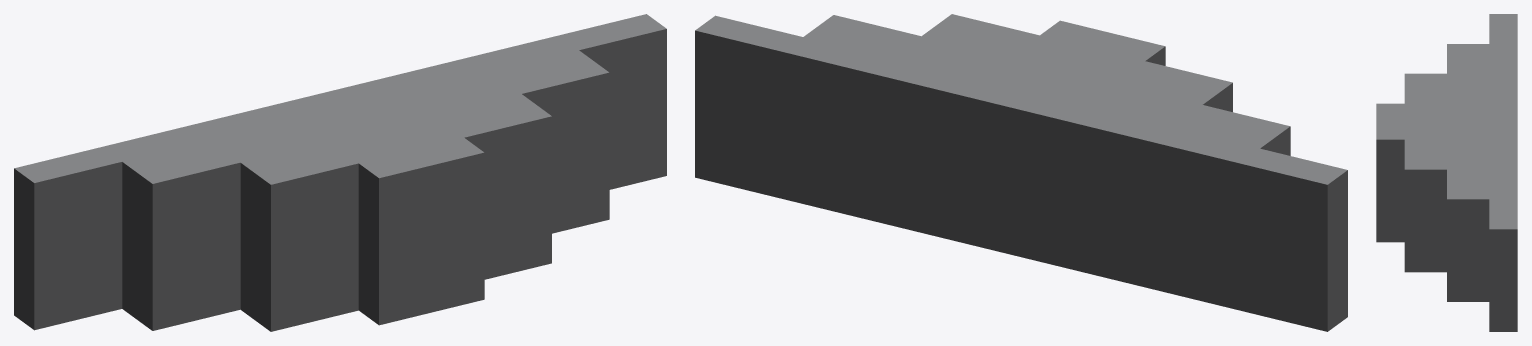
The picture shows the model from 3 angles, left to right: view 1: azimuth 30°, elevation 25°; view 2: azimuth 150°, elevation 25°; view 3: azimuth 270°, elevation 25°; orthographic projection. The views are drawn at different scales.
Size of the model in its own units: 0.153 by 0.034 by 0.0425.
